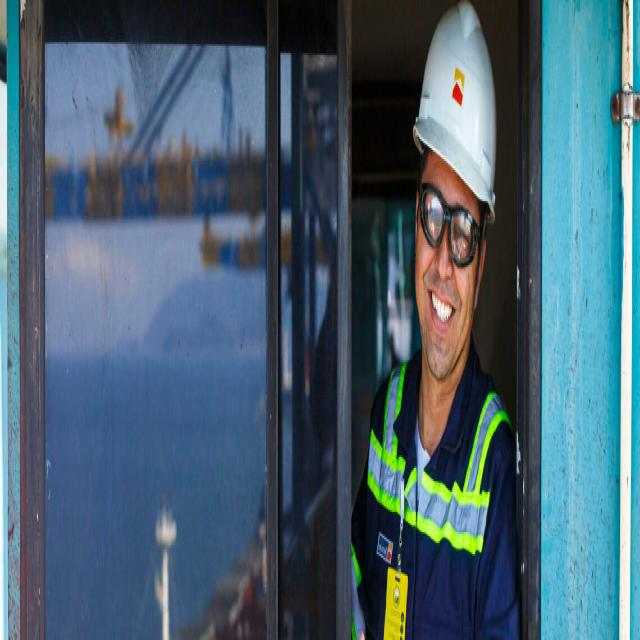goggles: (416, 173, 487, 278)
helmet: (412, 0, 502, 244)
vest: (348, 343, 523, 640)
